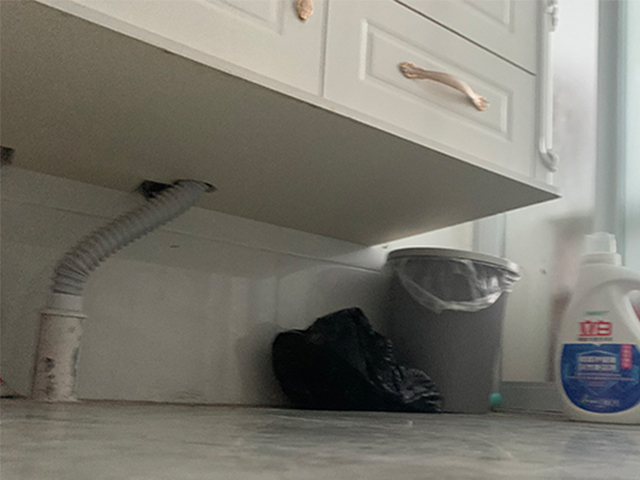trashcan: (387, 246, 523, 414)
